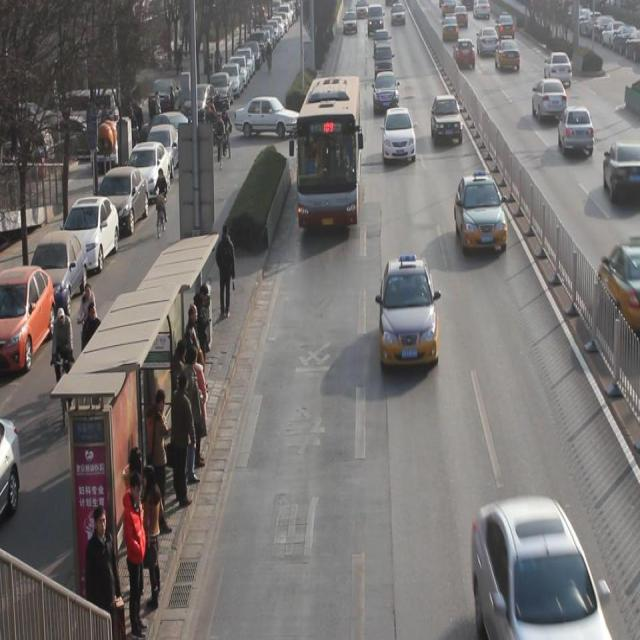car: (473, 499, 611, 640), (379, 256, 439, 366), (454, 170, 508, 252), (601, 240, 640, 323), (604, 139, 640, 204), (382, 105, 417, 163), (558, 106, 594, 156), (430, 95, 463, 143), (532, 78, 567, 120), (544, 50, 573, 86), (374, 70, 399, 111), (495, 35, 521, 70), (454, 37, 476, 68), (476, 27, 498, 54), (495, 11, 516, 38), (443, 12, 459, 40), (374, 28, 390, 51)
truck: (374, 42, 393, 74)
van: (297, 74, 359, 231)
